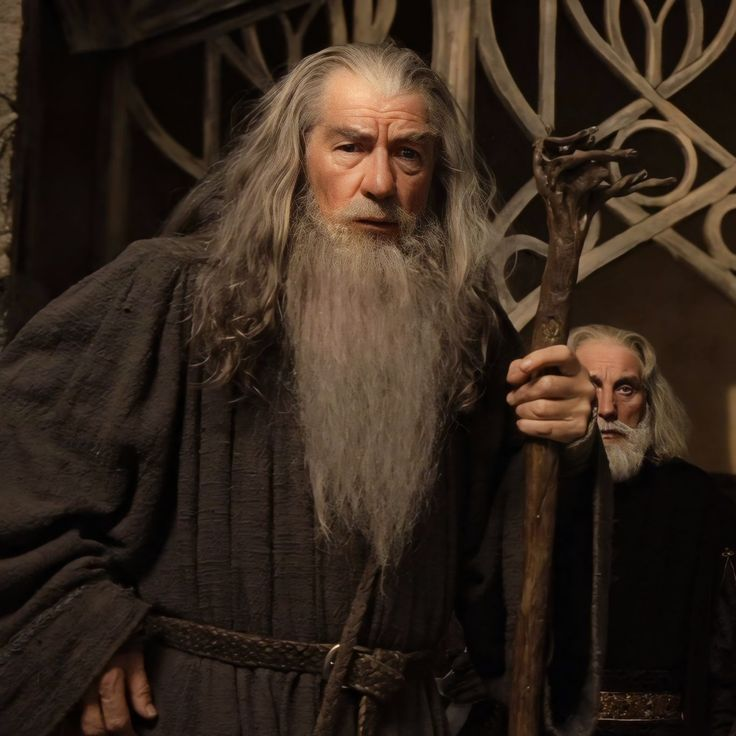gandalf grey: (21, 31, 592, 717)
